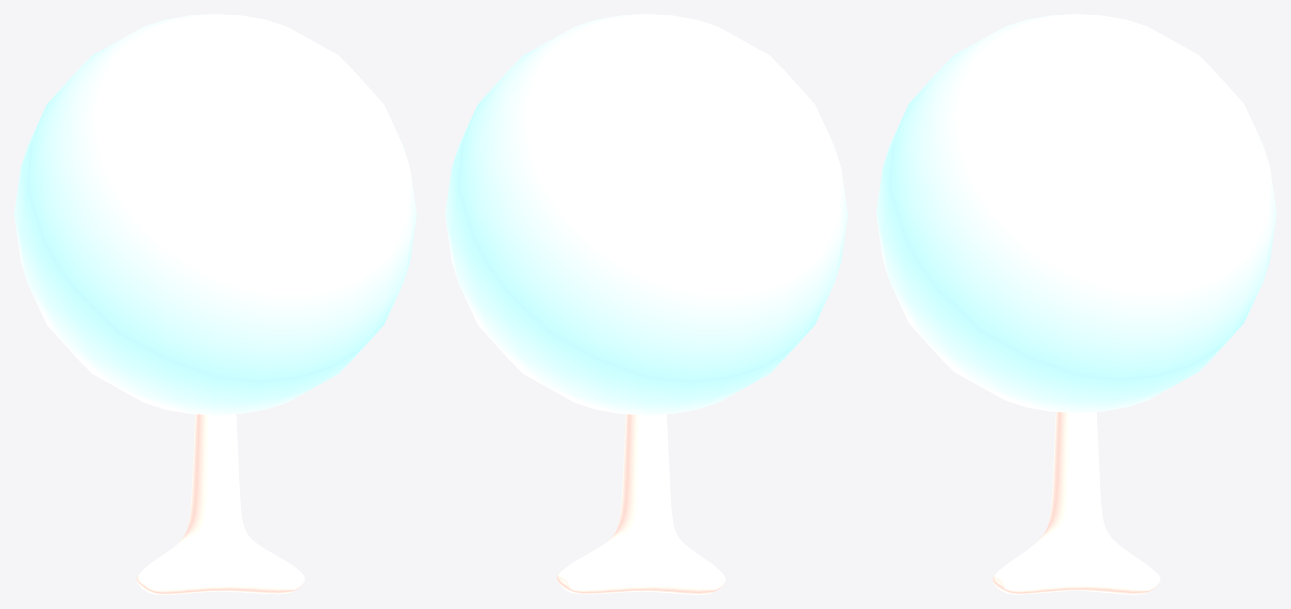
The model's file is tree.gltf.
3 views of the same model, side by side, from view 1: azimuth 30°, elevation 25°; view 2: azimuth 150°, elevation 25°; view 3: azimuth 270°, elevation 25° (orthographic).
Parts seen in each view (by area): view 1: Leaves, Cylinder; view 2: Leaves, Cylinder; view 3: Leaves, Cylinder.
Boxes of the visible parts, x1,y1,x2,y2 form: Leaves: [14, 14, 416, 415]; Cylinder: [136, 414, 304, 594]; Leaves: [445, 14, 847, 415]; Cylinder: [557, 414, 725, 594]; Leaves: [876, 14, 1276, 412]; Cylinder: [992, 412, 1160, 594].
Bounding box in the file's own units: 0.6083 × 0.9123 × 0.6083.
